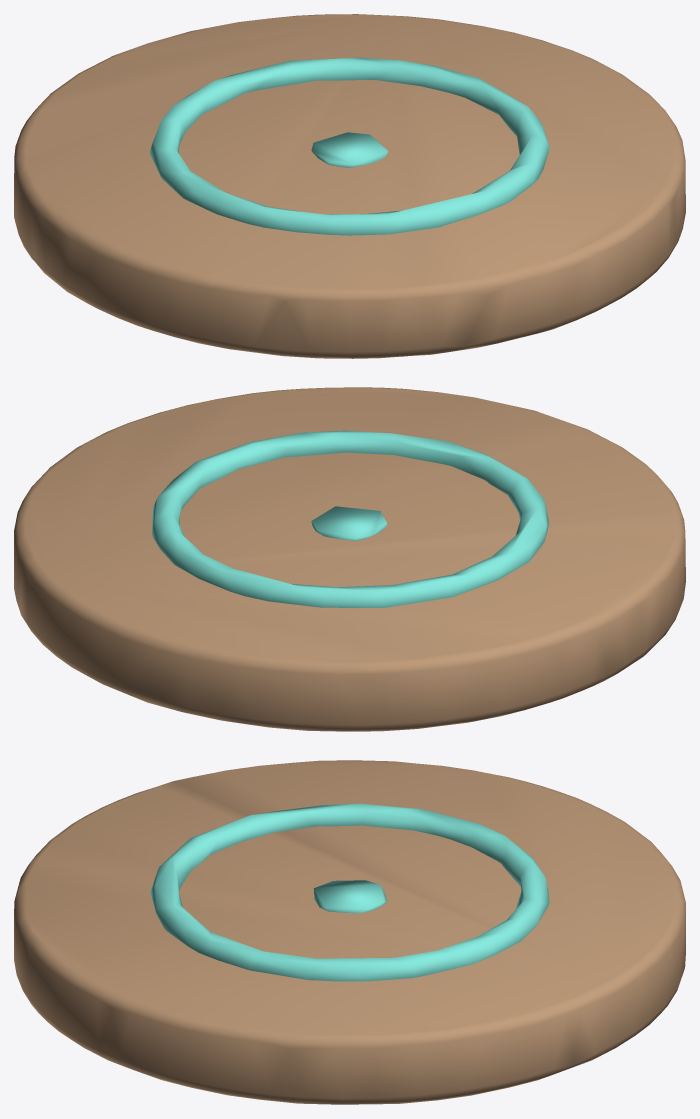
File: plate.glb
3 views of the same model, one above another, from view 1: azimuth 30°, elevation 25°; view 2: azimuth 150°, elevation 25°; view 3: azimuth 270°, elevation 25° (orthographic).
Visible parts, largest first — view 1: Placa, Glifo; view 2: Placa, Glifo; view 3: Placa, Glifo.
Part boxes in pixels (x1,y1,x2,y2): Placa: (14, 14, 685, 358); Glifo: (149, 57, 549, 235); Placa: (14, 387, 685, 731); Glifo: (152, 430, 548, 607); Placa: (14, 760, 685, 1104); Glifo: (150, 803, 549, 981).
Bounding box in the file's own units: 2.1 × 0.2915 × 2.1.
